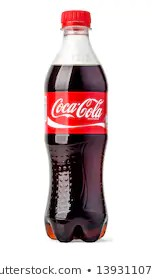coke-bottle-700ml: (41, 8, 110, 241)
